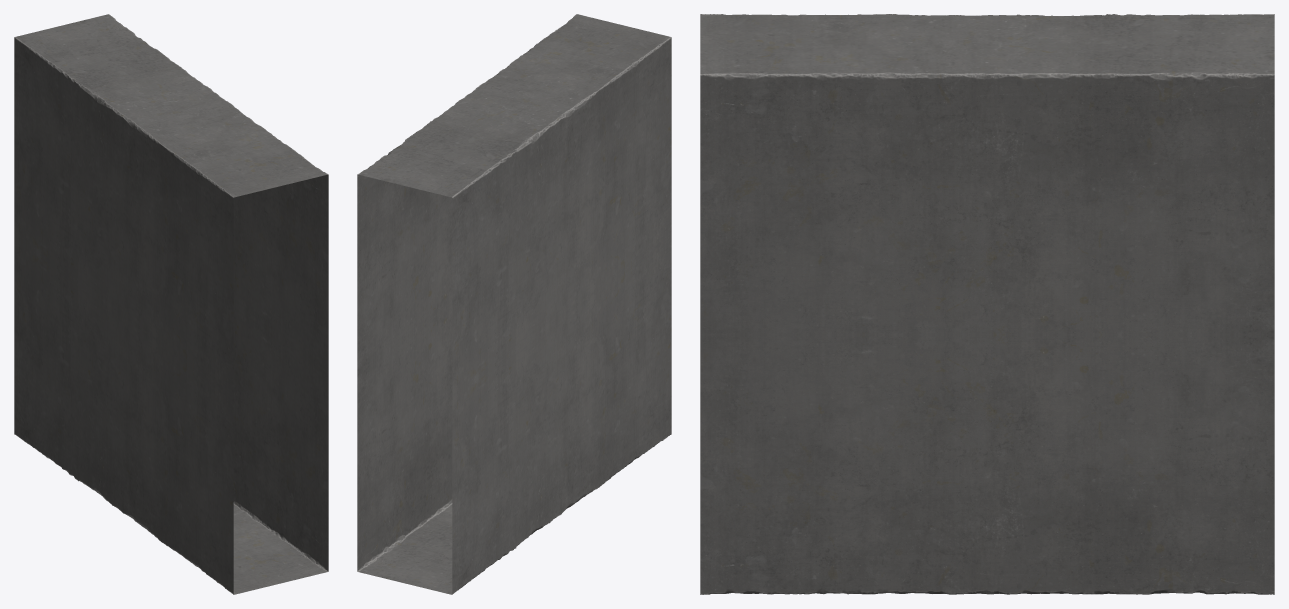
The model's file is SM_Sewer_Wall_Beam_01b.fbx.
3 views of the same model, side by side, from view 1: azimuth 30°, elevation 25°; view 2: azimuth 150°, elevation 25°; view 3: azimuth 270°, elevation 25° (orthographic). The views are drawn at different scales.
Parts seen in each view (by area): view 1: SM_Sewer_Wall_Beam_01b_LOD0; view 2: SM_Sewer_Wall_Beam_01b_LOD0; view 3: SM_Sewer_Wall_Beam_01b_LOD0.
Part boxes in pixels (bbox=[...]): SM_Sewer_Wall_Beam_01b_LOD0: bbox=[14, 14, 328, 594]; SM_Sewer_Wall_Beam_01b_LOD0: bbox=[357, 14, 671, 594]; SM_Sewer_Wall_Beam_01b_LOD0: bbox=[700, 14, 1274, 594].
Size of the model in its own units: 50.05 by 200 by 200.
